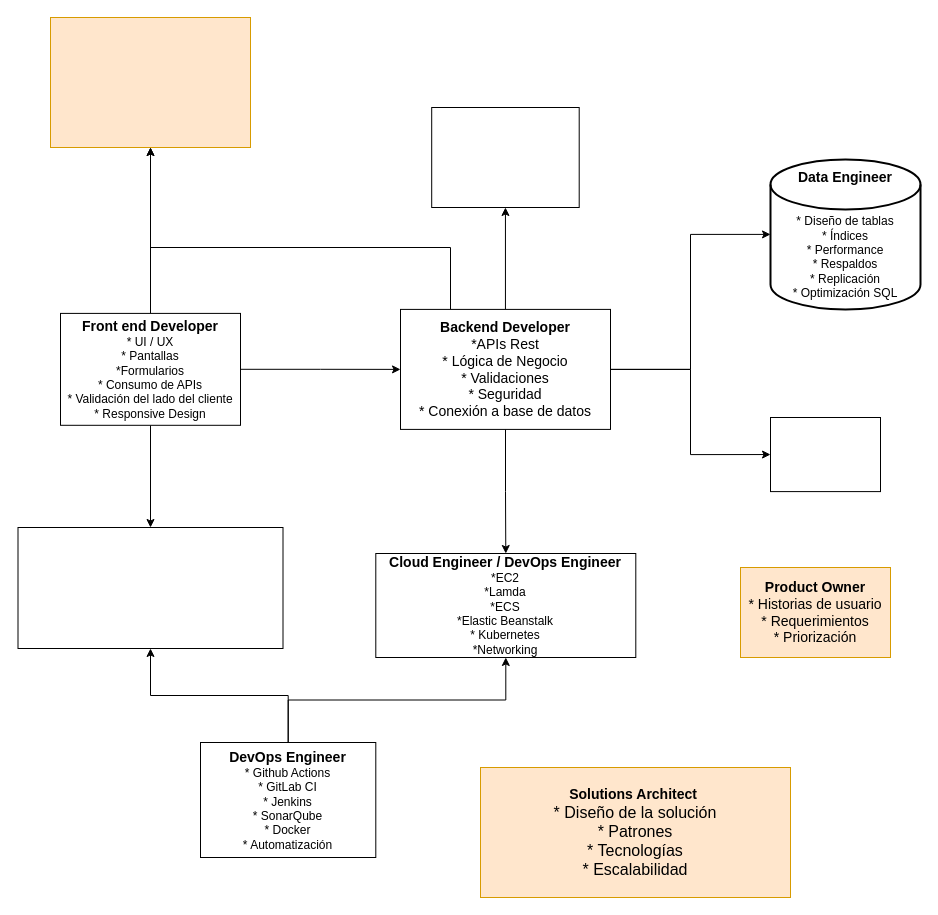
This 938x915 diagram has some shape labels left out. Each missing label, with the centre of its shape:
"Auth Security Engineer * JWT * OAuth * MFA * SSO" belongs at point (505, 157).
"Cloud Engineer * S3 * Azure Blob * Google Storage" belongs at point (825, 454).
"Cloud Engineer / DevOps Engineer *Netlify * Vercel * Cloudfront *S3 *CDN" belongs at point (150, 587).
"QA Quality Assurance Engineer * Pruebas * Automatización * Validación * Testing" belongs at point (150, 82).
